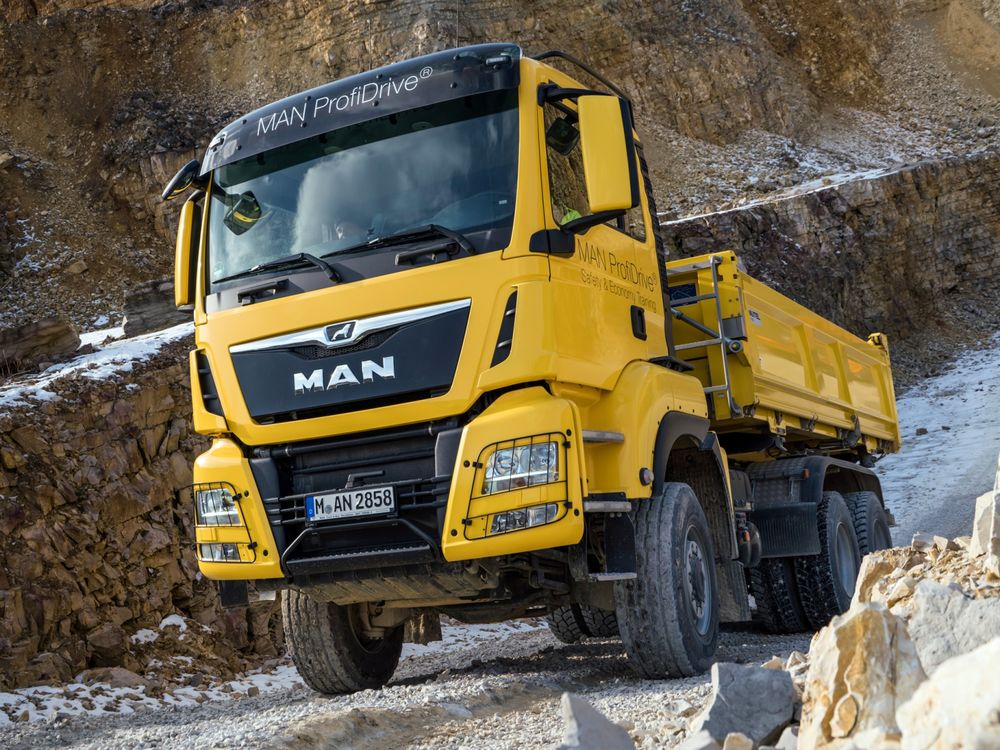Truck: (158, 37, 709, 687)
